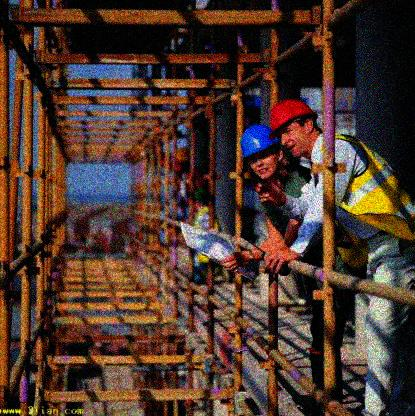helmet: (267, 99, 319, 159), (239, 124, 286, 180), (177, 148, 190, 171), (195, 185, 207, 208)
